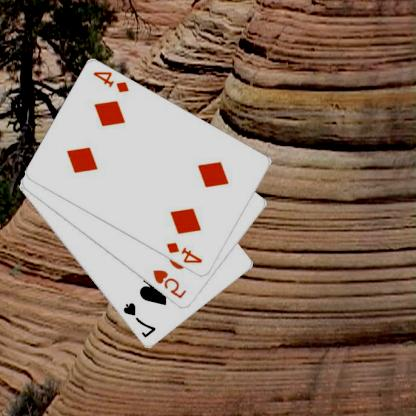4D: (92, 69, 133, 95), (166, 240, 206, 265)
5H: (152, 267, 190, 300)
7S: (122, 300, 159, 340)
